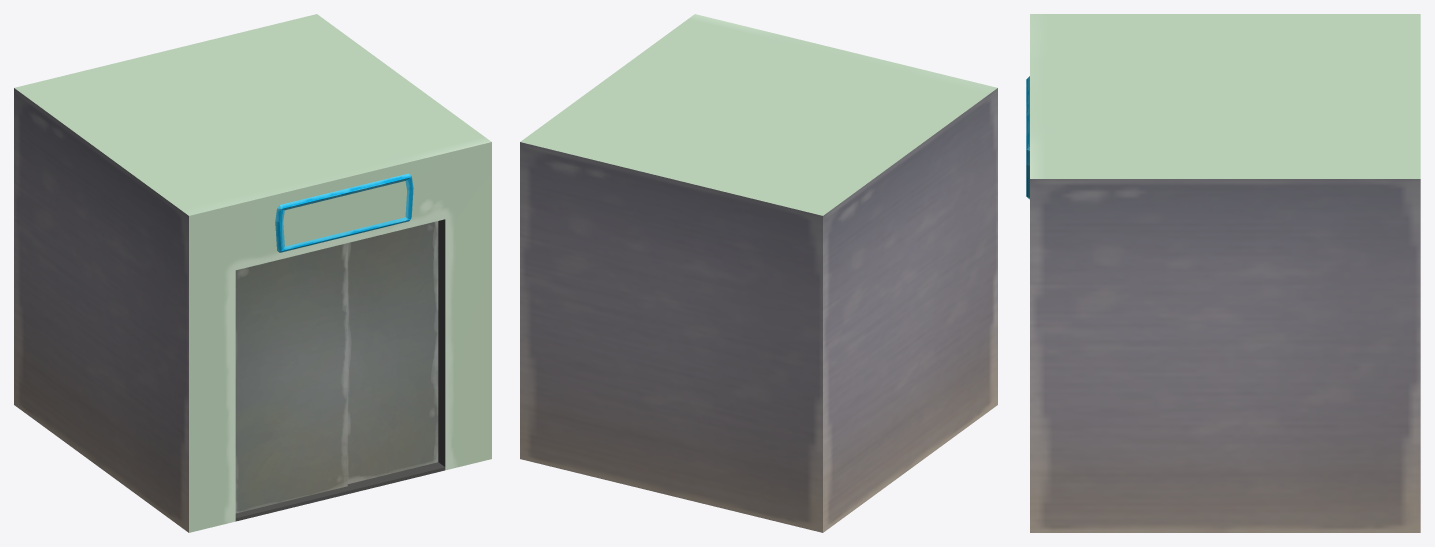
The model's file is ascensseur.fbx.
The picture shows the model from 3 angles, left to right: view 1: azimuth 30°, elevation 25°; view 2: azimuth 150°, elevation 25°; view 3: azimuth 270°, elevation 25°; orthographic projection. The views are drawn at different scales.
Parts seen in each view (by area): view 1: ascensseur, porte_01, porte_02; view 2: ascensseur; view 3: ascensseur.
Boxes of the visible parts, box(x1,y1,x2,y2) form: ascensseur: box(14, 14, 491, 532); porte_01: box(235, 243, 347, 513); porte_02: box(347, 221, 438, 483); ascensseur: box(520, 14, 997, 532); ascensseur: box(1026, 14, 1420, 532).
Bounding box in the file's own units: 2 × 2 × 2.02.
